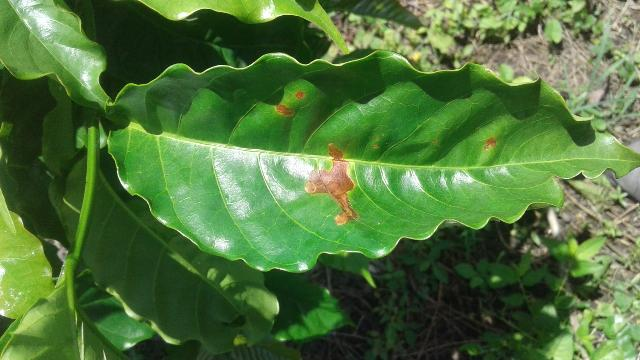red_spider_mite: (107, 46, 640, 279)
